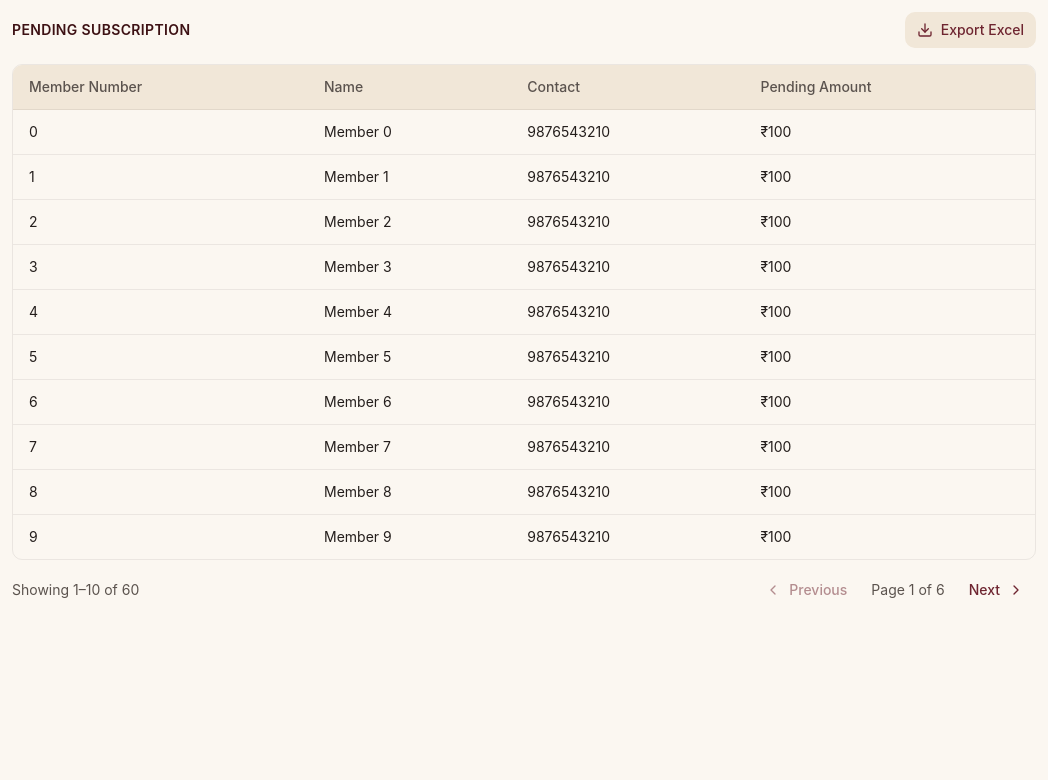
PendingSubscriptionTable › pagination › advances to the next page and back
Click the button "Next" at (996, 590), box x1=957 y1=572 x2=1036 y2=608
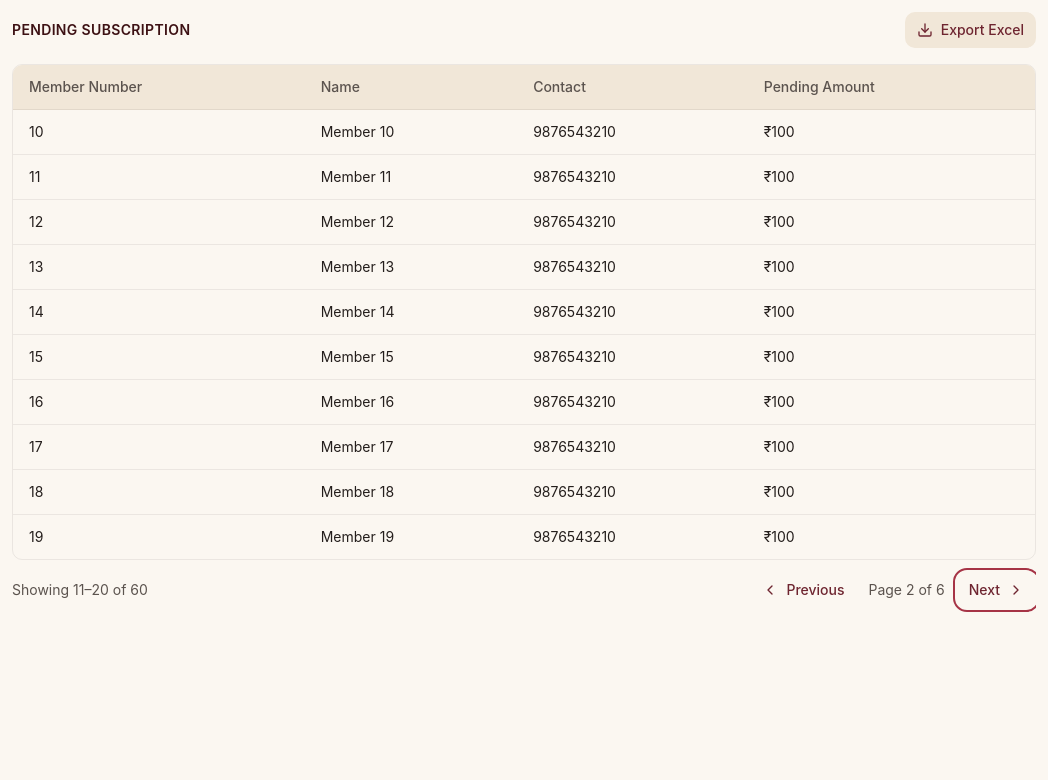
Now the text "Member 10" is shown, box x1=305 y1=110 x2=517 y2=154
Now the text "Member 0" is gone
Now the text "Page 2 of 6" is shown, box x1=868 y1=580 x2=945 y2=600
Click the button "Next" at (996, 590), box x1=957 y1=572 x2=1036 y2=608
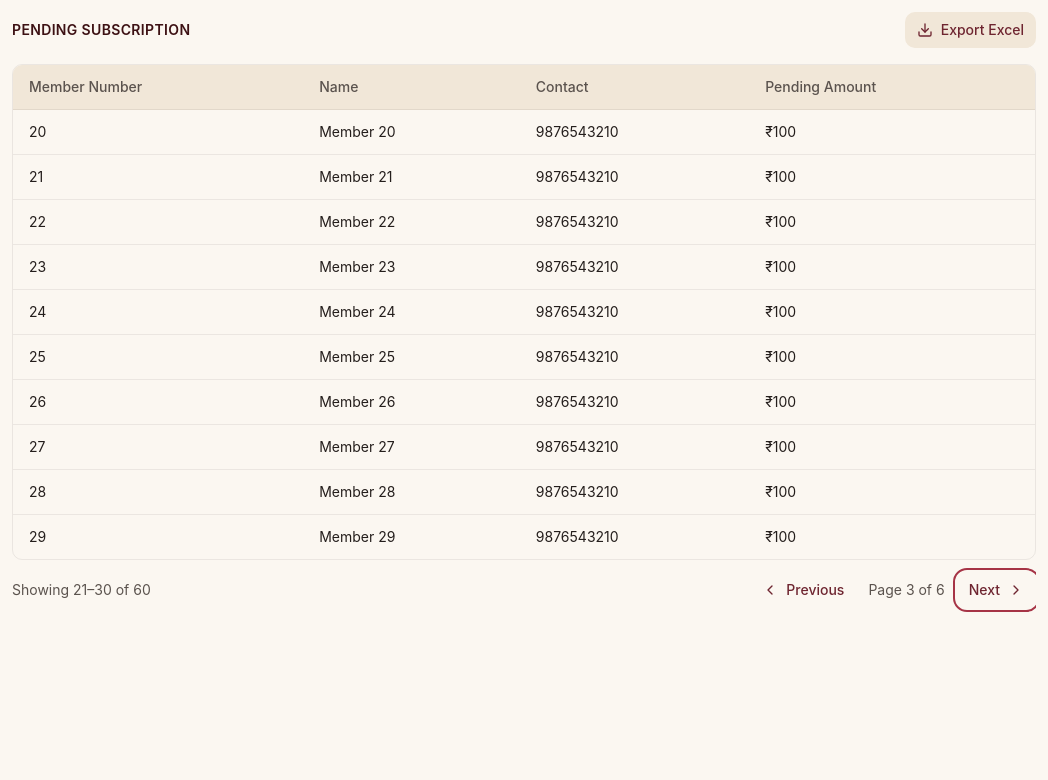
Now the text "Page 3 of 6" is shown, box x1=868 y1=580 x2=945 y2=600
Now the text "Showing 21–30 of 60" is shown, box x1=12 y1=580 x2=151 y2=600
Click the button "Previous" at (803, 590), box x1=750 y1=572 x2=856 y2=608
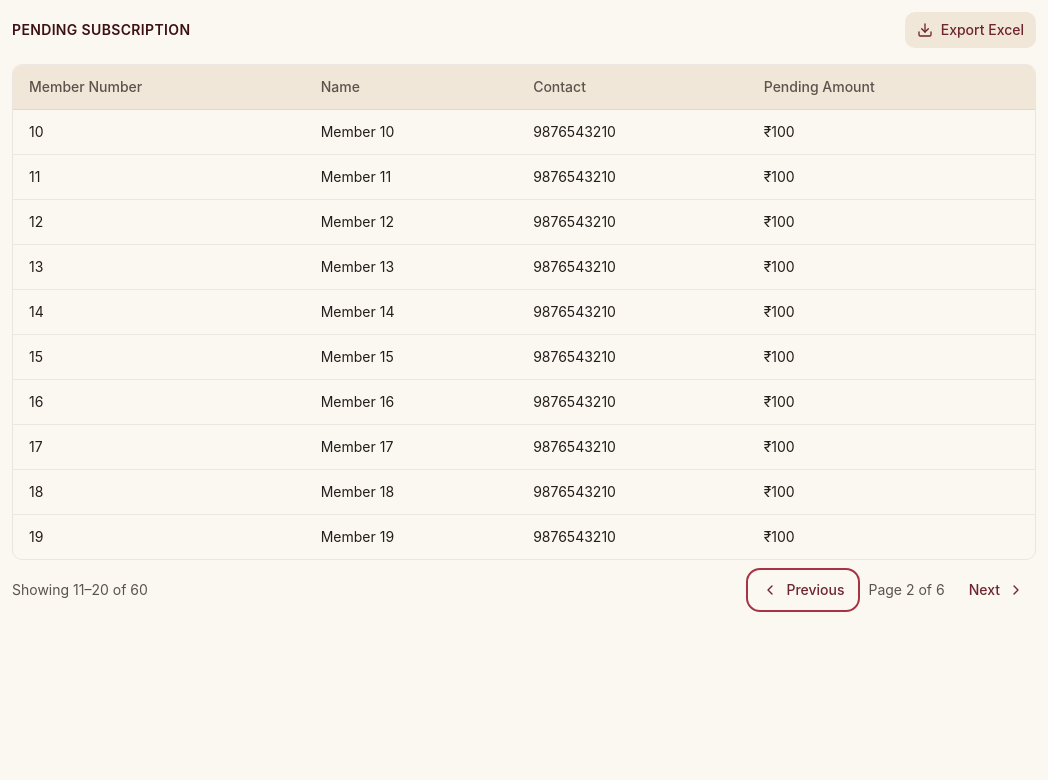
Now the text "Page 2 of 6" is shown, box x1=868 y1=580 x2=945 y2=600
